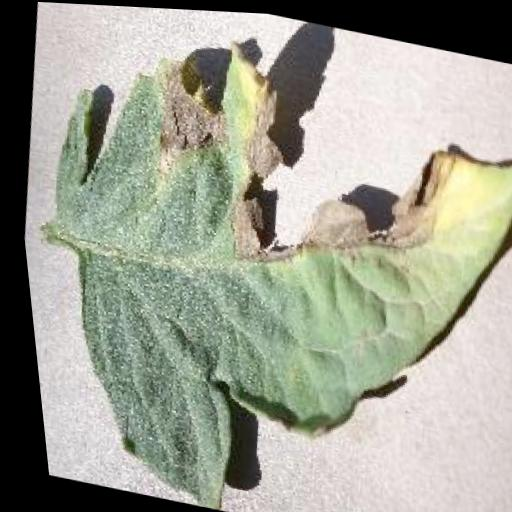Early Blight: (1, 10, 512, 512)
